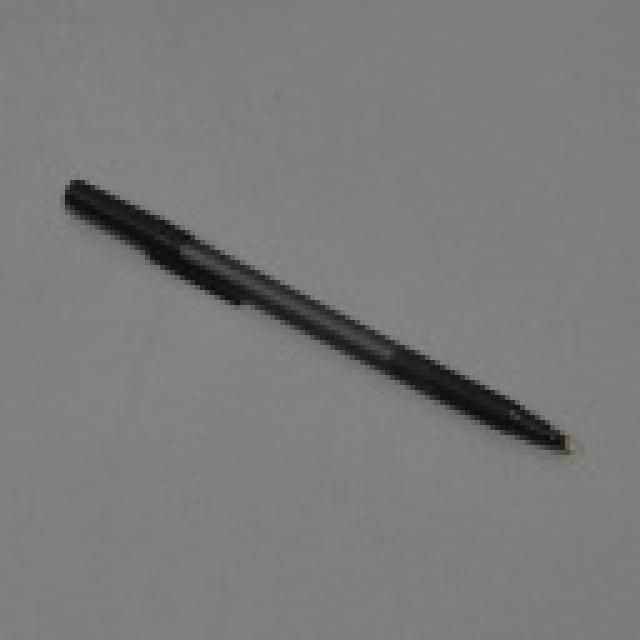pen: (59, 170, 579, 470)
